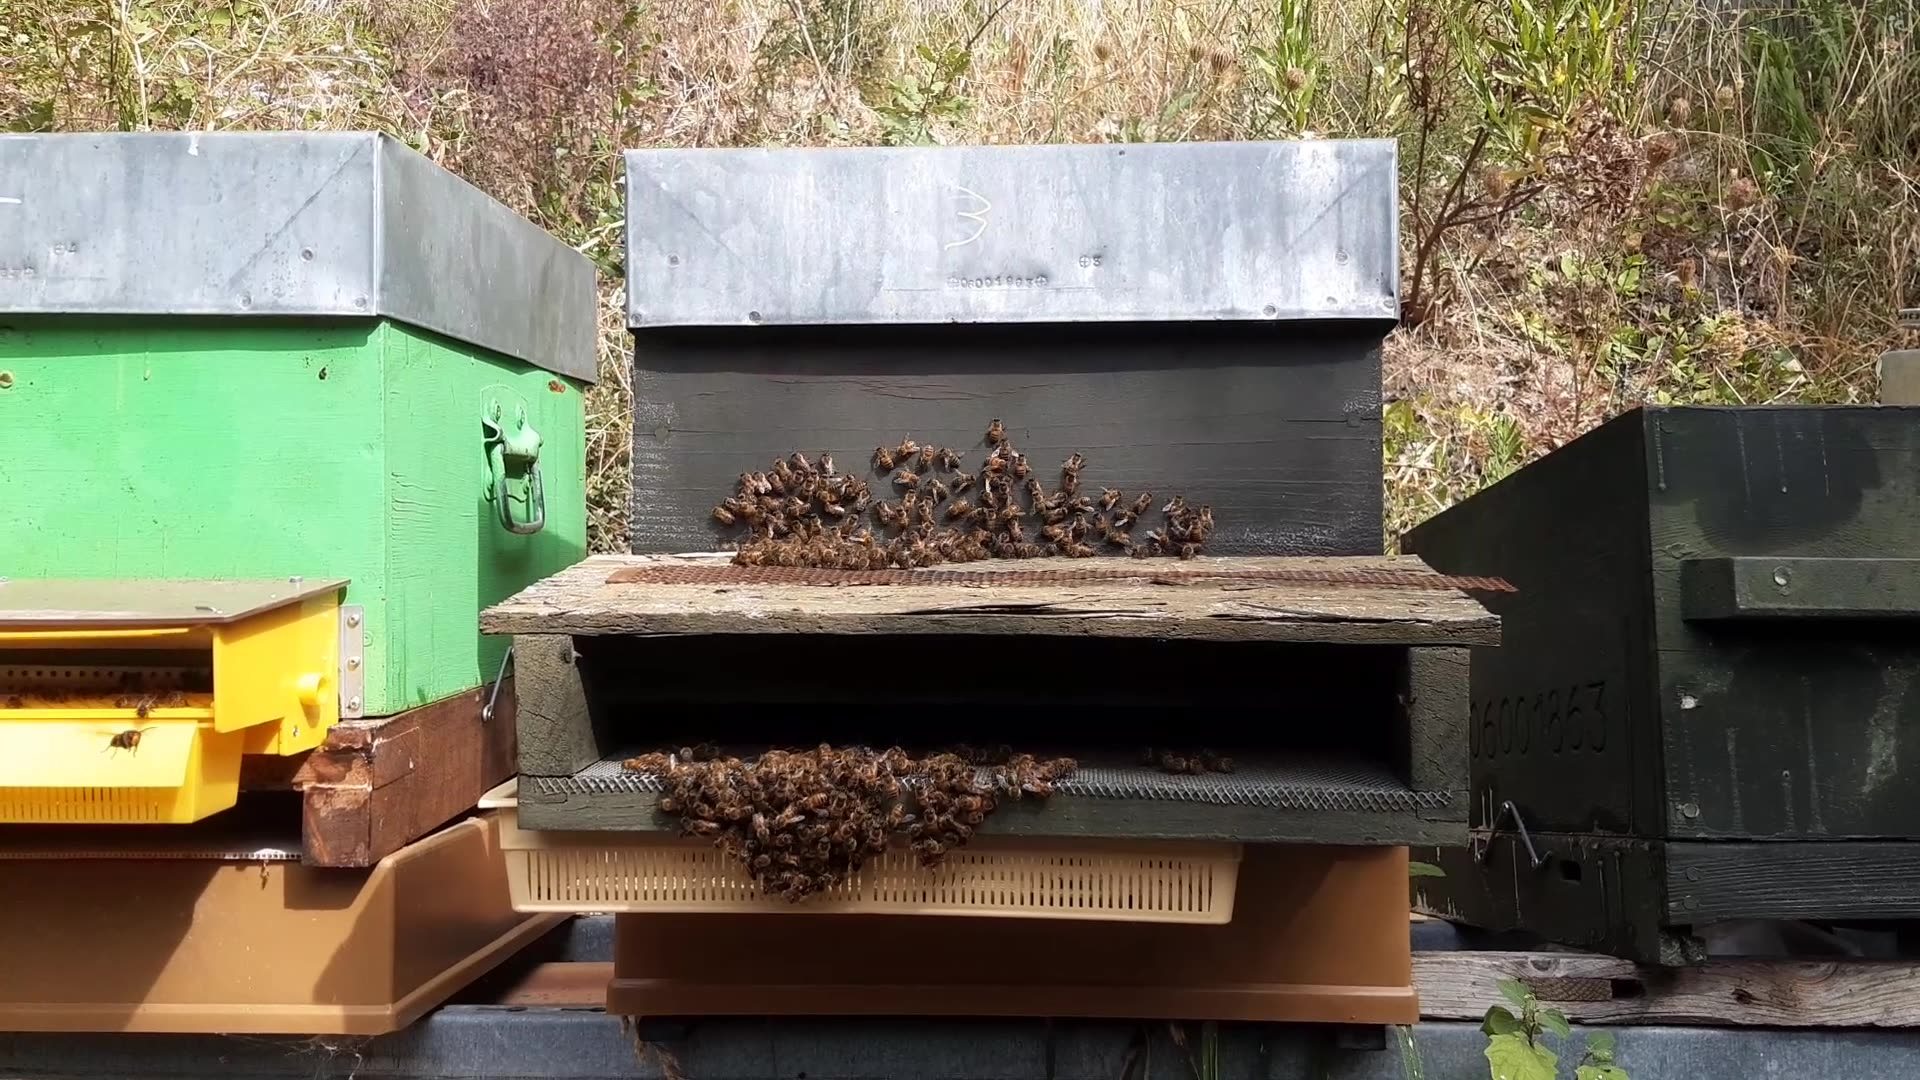bee: (752, 819, 835, 905), (1131, 495, 1211, 559), (618, 746, 705, 802), (951, 512, 1029, 571), (709, 737, 814, 778), (709, 506, 793, 555), (1036, 512, 1106, 560), (741, 465, 808, 516), (856, 520, 926, 567), (945, 448, 1001, 505), (836, 460, 903, 500), (1034, 473, 1076, 524)
